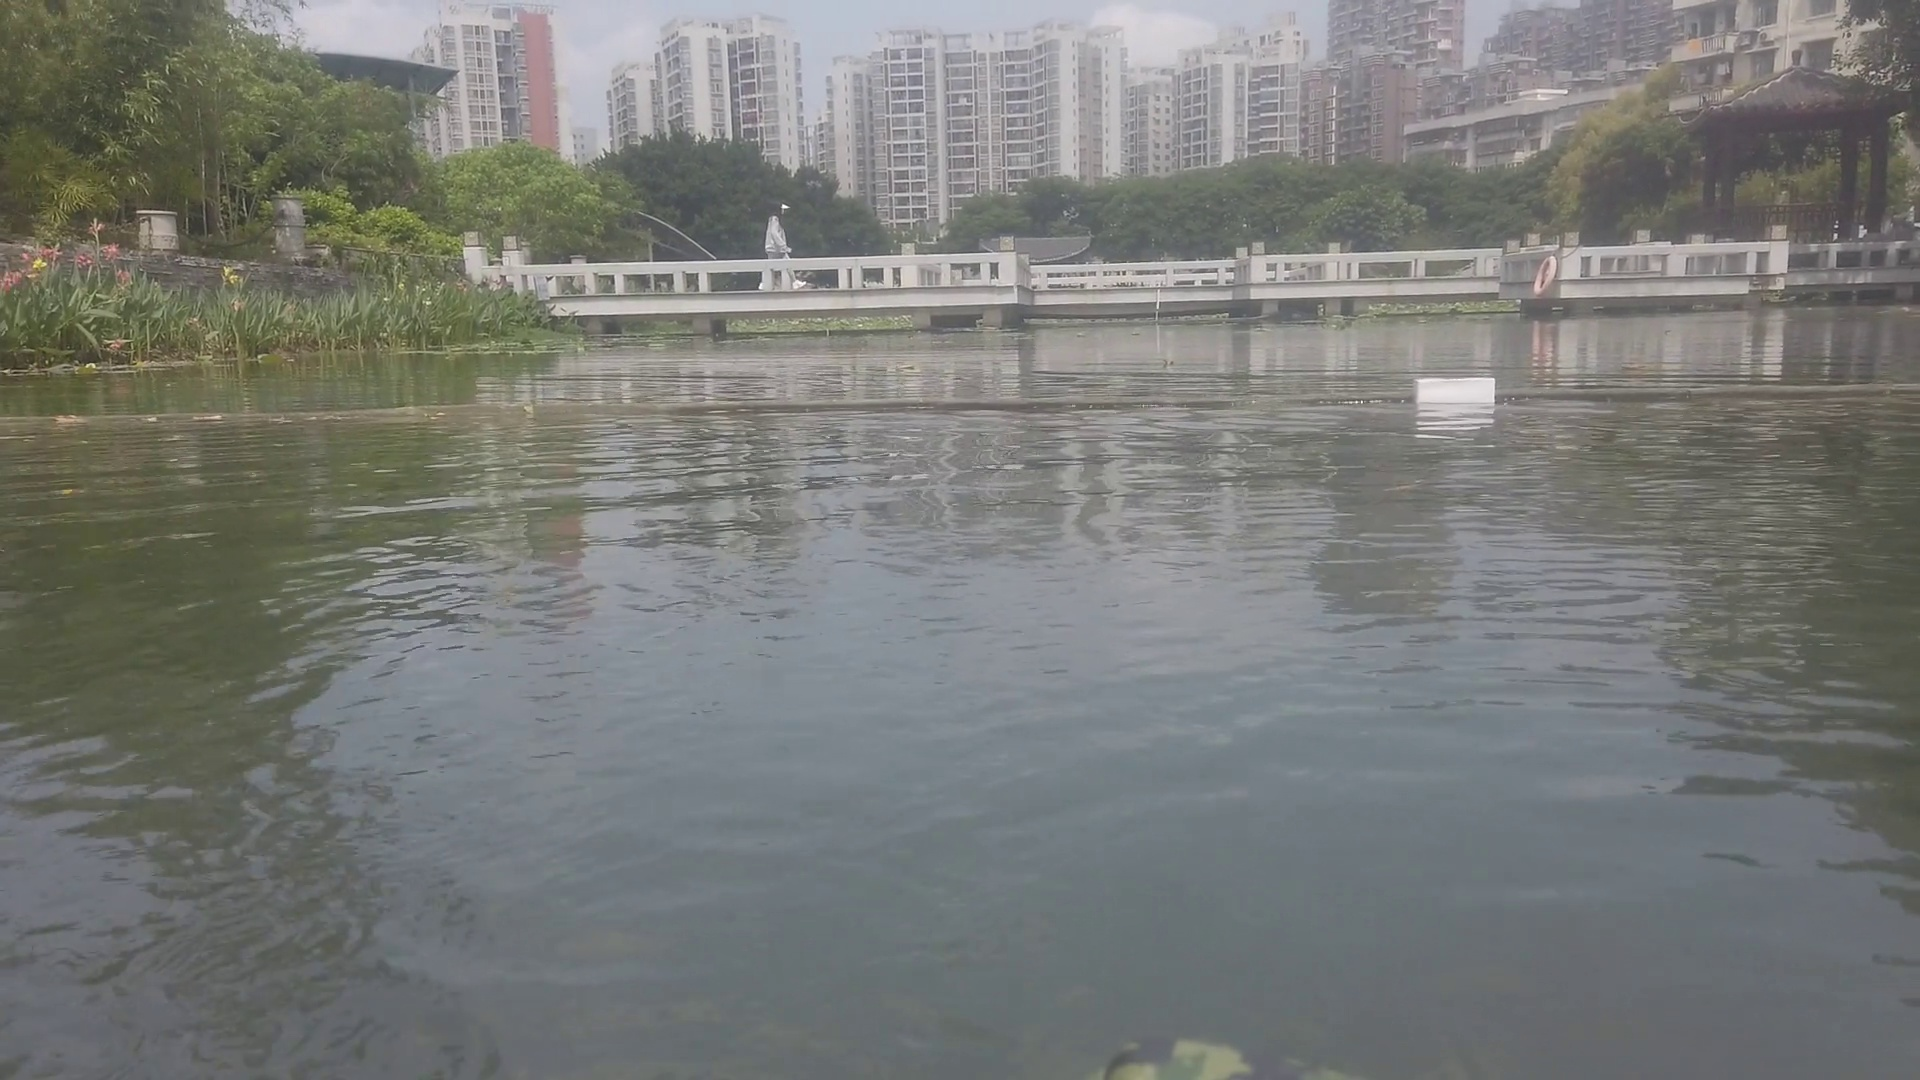carton: (1410, 371, 1503, 405)
